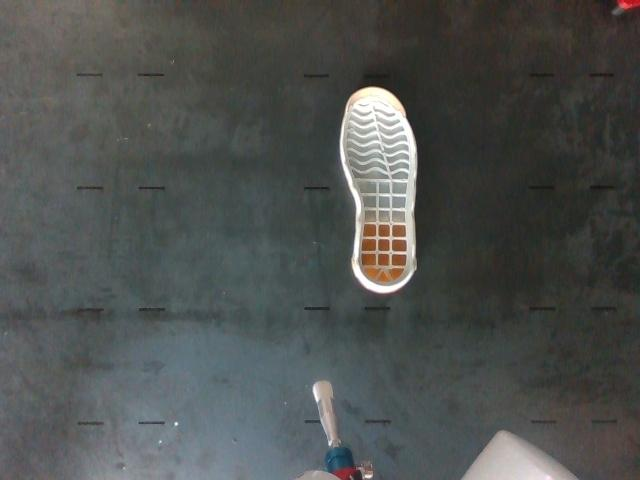shoes: (342, 89, 415, 291)
